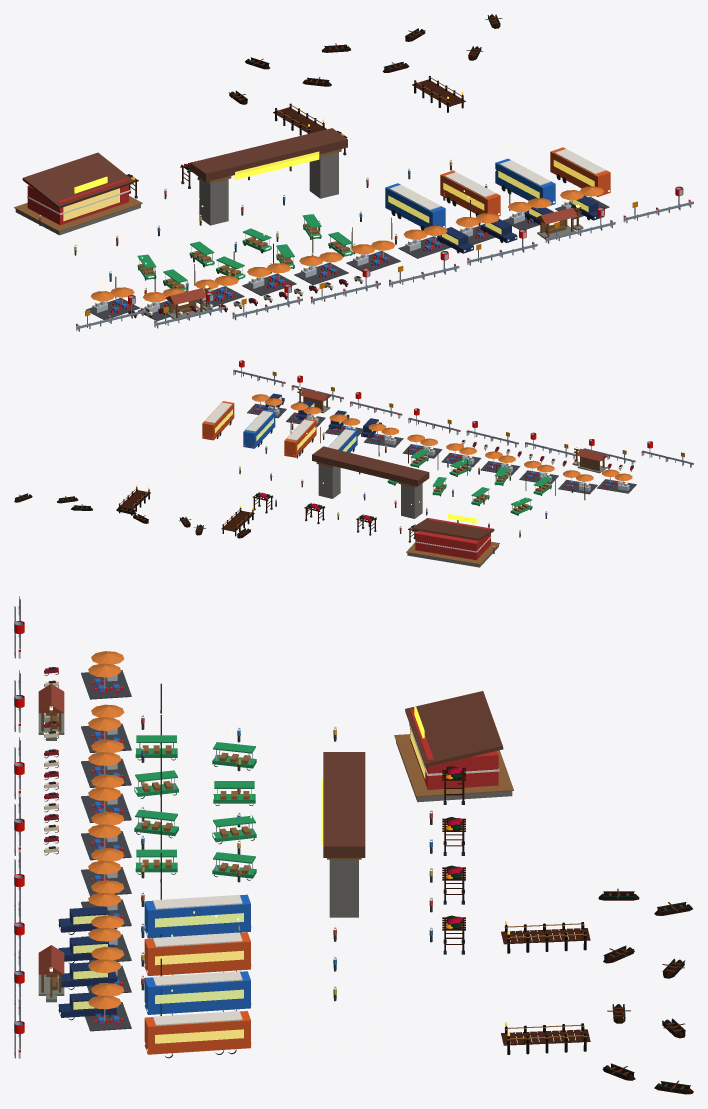
File: ul_w10_03_prenn_waterfall_gateway_electric_shuttles_and_tour_buses.glb
The picture shows the model from 3 angles, top to bottom: view 1: azimuth 30°, elevation 25°; view 2: azimuth 150°, elevation 25°; view 3: azimuth 270°, elevation 25°; orthographic projection. The views are drawn at different scales.
Parts seen in each view (by area): view 1: ul_w10_03_prenn_waterfall_gateway_electric_shuttles_and_tour (×21); view 2: ul_w10_03_prenn_waterfall_gateway_electric_shuttles_and_tour (×19); view 3: ul_w10_03_prenn_waterfall_gateway_electric_shuttles_and_tour (×16).
Boxes of the visible parts, bbox=[...] form: ul_w10_03_prenn_waterfall_gateway_electric_shuttles_and_tour (×21): bbox=[14, 128, 693, 331]; ul_w10_03_prenn_waterfall_gateway_electric_shuttles_and_tour (×19): bbox=[202, 360, 693, 567]; ul_w10_03_prenn_waterfall_gateway_electric_shuttles_and_tour (×16): bbox=[14, 599, 513, 1058].
Bounding box in the file's own units: 115 × 11.13 × 74.27.
